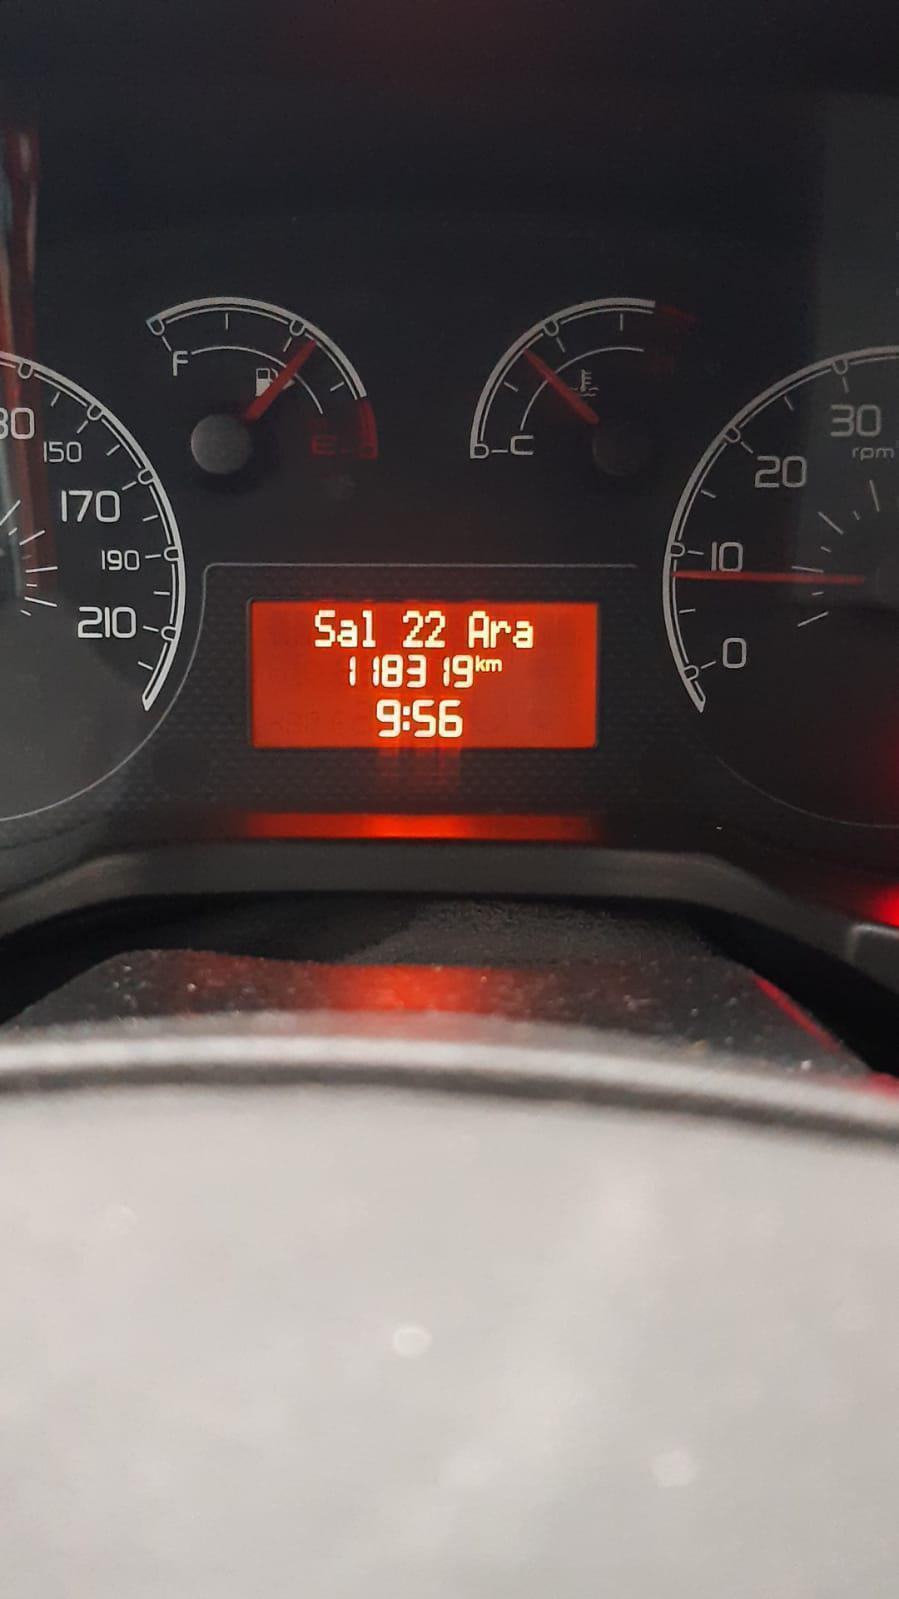1: (345, 653, 357, 695), (369, 652, 381, 691), (441, 653, 451, 690)
2: (425, 607, 448, 649), (401, 606, 423, 648)
3: (406, 650, 428, 691)
5: (413, 697, 436, 739)
6: (439, 697, 465, 740)
8: (382, 651, 403, 687)
9: (375, 698, 402, 738), (452, 652, 472, 691)
X: (312, 608, 336, 650), (467, 608, 490, 648), (514, 617, 536, 650), (490, 617, 510, 649), (337, 617, 358, 649), (362, 606, 378, 649), (401, 702, 411, 733), (485, 657, 504, 672), (475, 653, 485, 672)
odometer: (244, 595, 602, 752)
